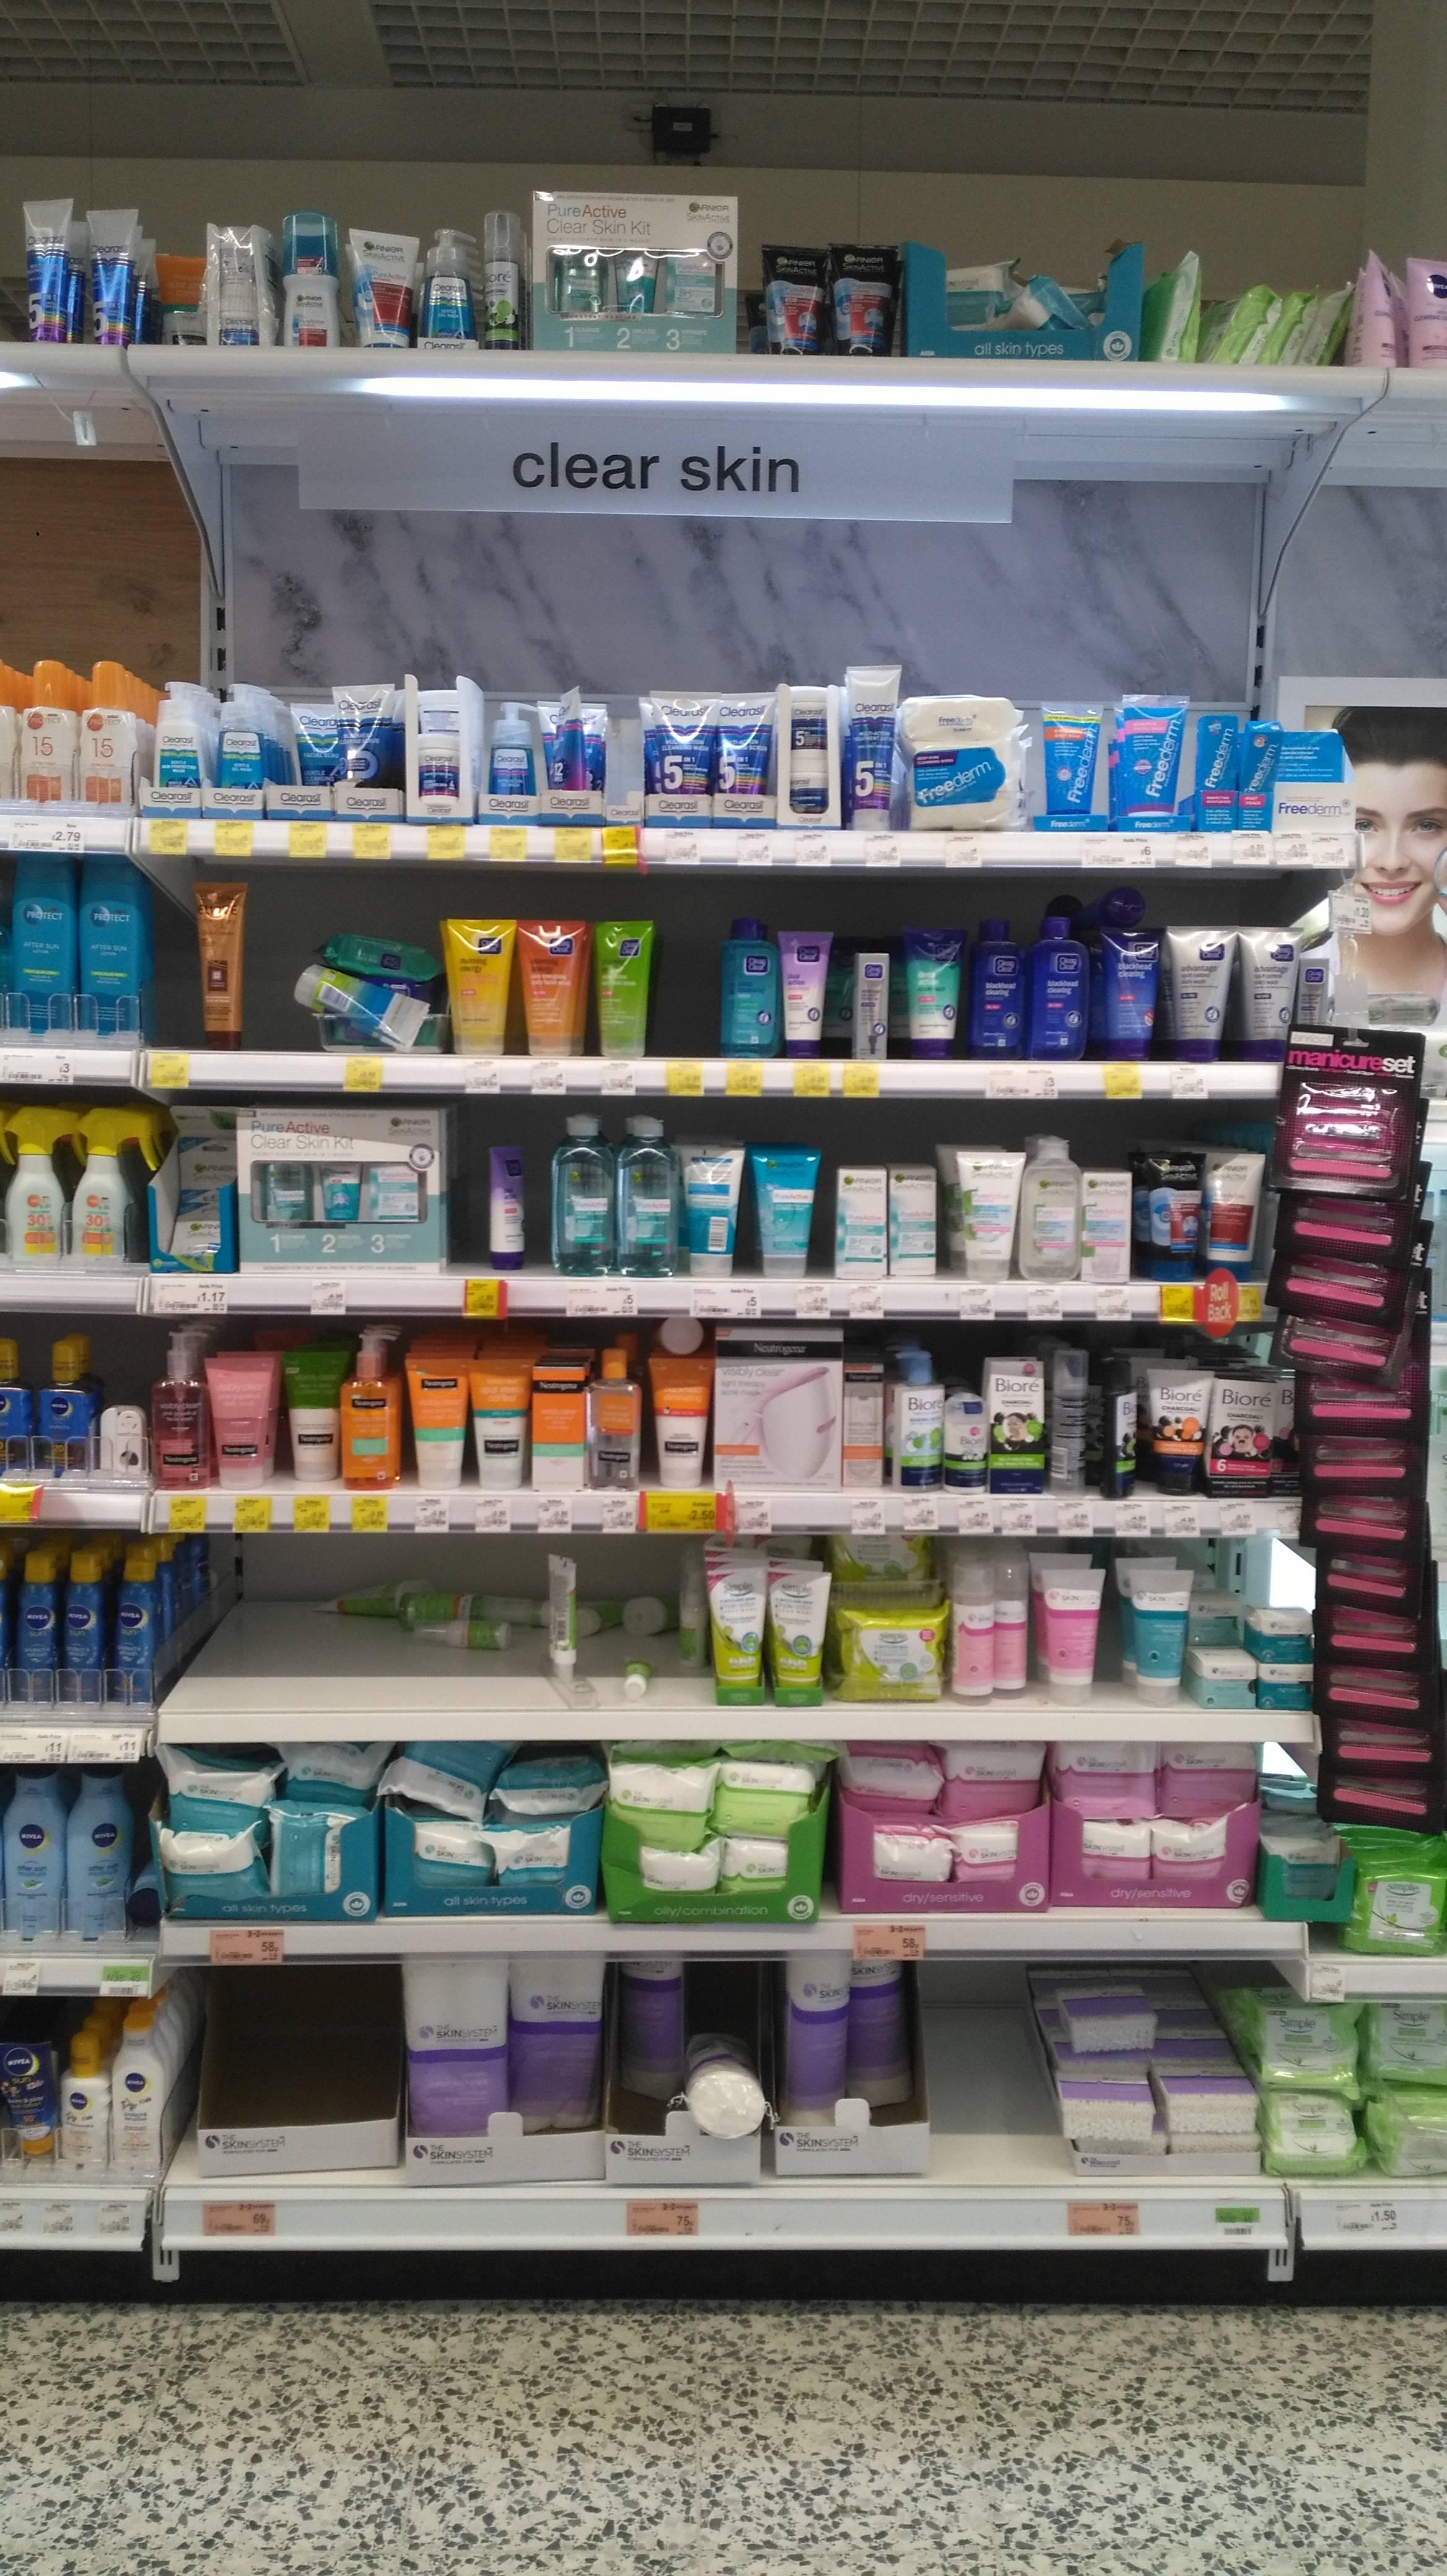misalignment: (317, 1560, 540, 1654), (686, 2013, 766, 2141), (302, 973, 432, 1051), (612, 1557, 702, 1656), (472, 1138, 540, 1270), (1053, 1983, 1162, 2054), (893, 690, 1026, 741), (311, 924, 439, 975), (1091, 1385, 1143, 1497), (541, 1553, 584, 1679), (547, 695, 591, 801), (1245, 717, 1279, 812), (1090, 879, 1153, 925), (653, 1313, 709, 1359), (617, 1649, 656, 1714)
